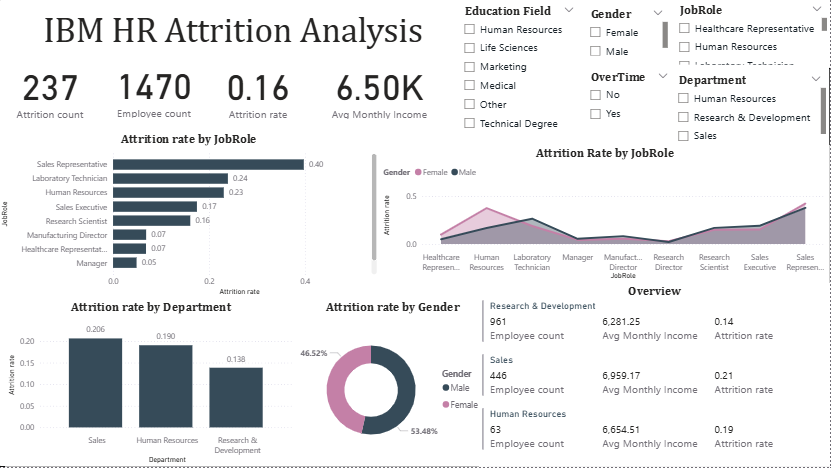

What the dashboard file says about the page in this screenshot:
{"tool":"powerbi","page":{"name":"Page 1","canvas":[1280,720],"ordinal":0},"visuals":[{"type":"card","fields":{"Values":["Sheet1.Attrition count"]},"box":[0,89.2,160,100],"z":0},{"type":"card","fields":{"Values":["Sheet1.Avg Monthly Income"]},"box":[501.5,89.2,170.8,100],"z":1000},{"type":"card","fields":{"Values":["Sheet1.Employee count"]},"box":[160,87.7,160,100],"z":2000},{"type":"card","fields":{"Values":["Sheet1.Attrition rate"]},"box":[320,89.2,160,100],"z":3000},{"type":"columnChart","fields":{"Category":["Sheet1.Department"],"Y":["Sheet1.Attrition rate"]},"box":[10.2,461,449.3,257.6],"z":4000},{"type":"clusteredBarChart","fields":{"Category":["Sheet1.JobRole"],"Y":["Sheet1.Attrition rate"]},"box":[0,203.1,587.7,258.5],"z":5000},{"type":"donutChart","fields":{"Category":["Sheet1.Gender"],"Y":["Sheet1.Attrition rate"]},"box":[459.7,461.2,294,258.2],"z":6000},{"type":"areaChart","title":"Attrition Rate by JobRole","fields":{"Category":["Sheet1.JobRole"],"Series":["Sheet1.Gender"],"Y":["Sheet1.Attrition rate"]},"box":[587.7,224.6,692.3,212.3],"z":7000},{"type":"multiRowCard","title":"Overview","fields":{"Values":["Sheet1.Employee count","Sheet1.Department","Sheet1.Avg Monthly Income","Sheet1.Attrition rate"]},"box":[740,437.5,540,282.5],"z":8000},{"type":"slicer","fields":{"Values":["Sheet1.JobRole"]},"box":[1035.4,0,244.6,106.2],"z":9000},{"type":"slicer","fields":{"Values":["Sheet1.Department"]},"box":[1033.8,107.7,244.6,116.9],"z":10000},{"type":"slicer","fields":{"Values":["Sheet1.Gender"]},"box":[898.5,6.2,136.9,86.2],"z":11000},{"type":"slicer","fields":{"Values":["Sheet1.EducationField"]},"box":[704.6,1.5,193.8,223.1],"z":12000},{"type":"slicer","fields":{"Values":["Sheet1.OverTime"]},"box":[898.5,103.1,144.6,100],"z":13000},{"type":"textbox","box":[64.3,10,640,78.6],"z":14000}]}

Visuals, with their boxes in screenshot pixels (x1, y1, x2, y2), scaled from the page's 1280x720 canvas onto the 831x468 screenshot:
card - Sheet1.Attrition count: {"x1": 0, "y1": 58, "x2": 104, "y2": 123}
card - Sheet1.Avg Monthly Income: {"x1": 326, "y1": 58, "x2": 436, "y2": 123}
card - Sheet1.Employee count: {"x1": 104, "y1": 57, "x2": 208, "y2": 122}
card - Sheet1.Attrition rate: {"x1": 208, "y1": 58, "x2": 312, "y2": 123}
columnChart - Sheet1.Department x Sheet1.Attrition rate: {"x1": 7, "y1": 300, "x2": 298, "y2": 467}
clusteredBarChart - Sheet1.JobRole x Sheet1.Attrition rate: {"x1": 0, "y1": 132, "x2": 382, "y2": 300}
donutChart - Sheet1.Gender x Sheet1.Attrition rate: {"x1": 298, "y1": 300, "x2": 489, "y2": 467}
"Attrition Rate by JobRole" areaChart: {"x1": 382, "y1": 146, "x2": 830, "y2": 284}
"Overview" multiRowCard: {"x1": 480, "y1": 284, "x2": 830, "y2": 467}
slicer - Sheet1.JobRole: {"x1": 672, "y1": 0, "x2": 830, "y2": 69}
slicer - Sheet1.Department: {"x1": 671, "y1": 70, "x2": 830, "y2": 146}
slicer - Sheet1.Gender: {"x1": 583, "y1": 4, "x2": 672, "y2": 60}
slicer - Sheet1.EducationField: {"x1": 457, "y1": 1, "x2": 583, "y2": 146}
slicer - Sheet1.OverTime: {"x1": 583, "y1": 67, "x2": 677, "y2": 132}
textbox: {"x1": 42, "y1": 6, "x2": 457, "y2": 58}
